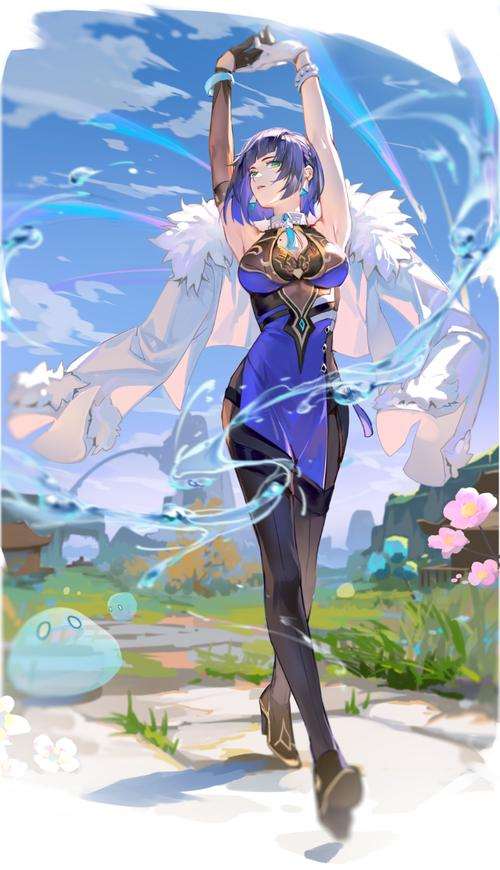夜兰: (207, 30, 398, 847)
